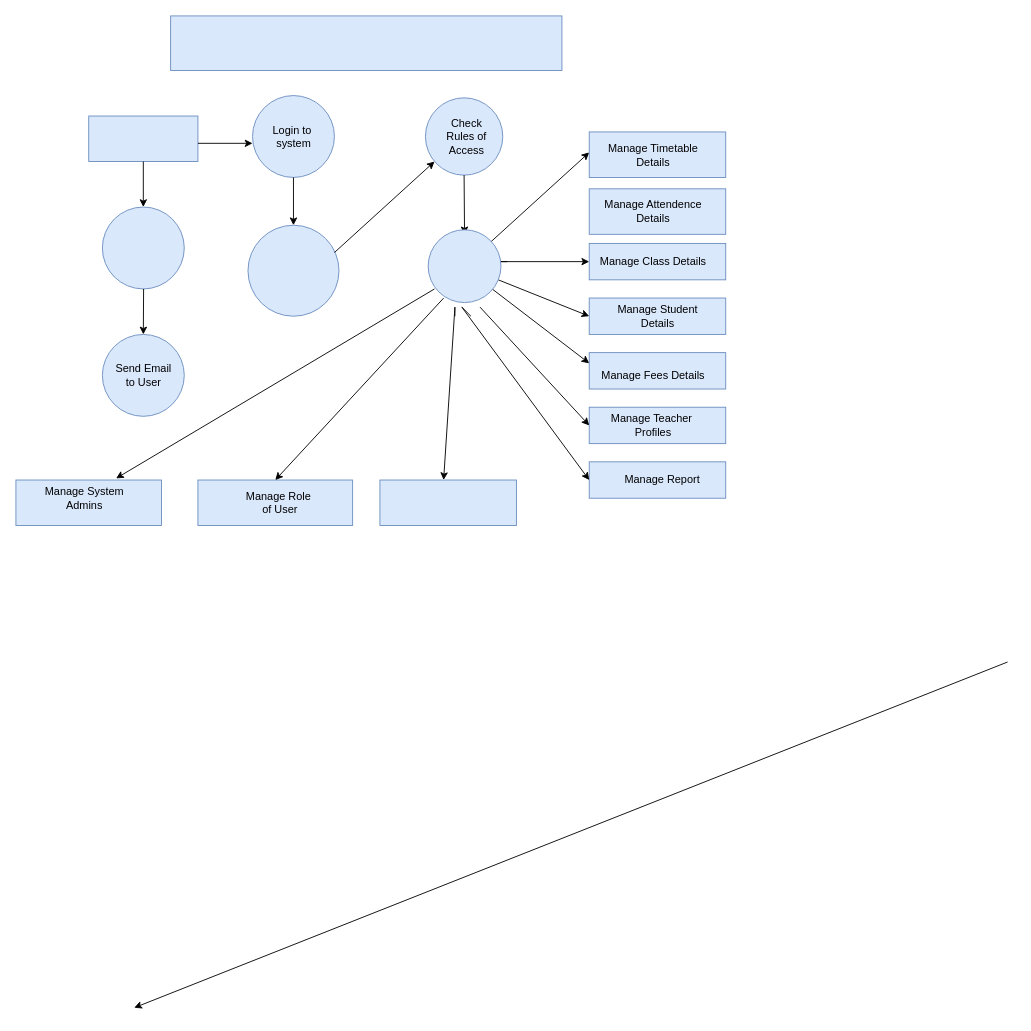
This 1031x1031 diagram has some shape labels left out. Here are the shapes that lost their labels. From the top down, the centre of each, then its label:
At point (366, 43): "Student Information System".
At point (143, 138): "Admin".
At point (142, 247): "Forgot Password".
At point (464, 266): "Manage Modules".
At point (293, 270): "Check Credentials".
At point (447, 502): "Manage User Permission".
